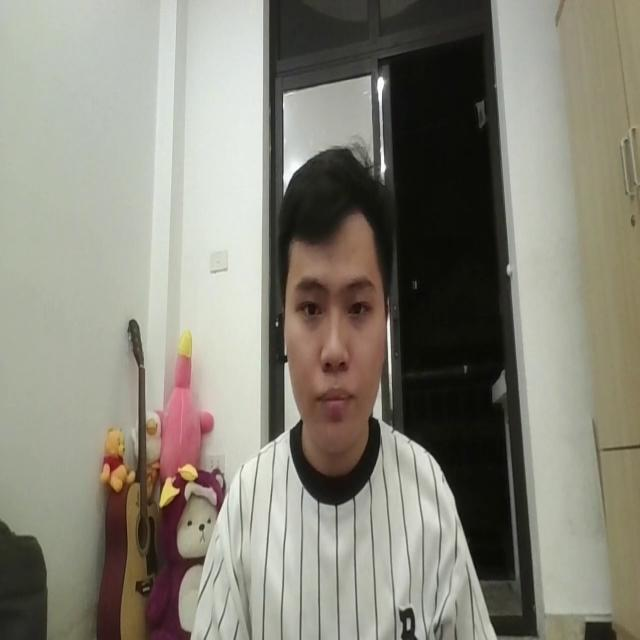student: (198, 139, 487, 640)
